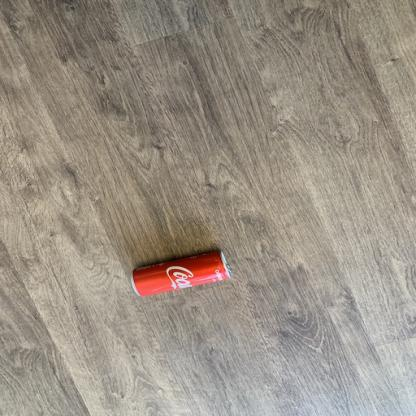trash: (120, 235, 242, 310)
